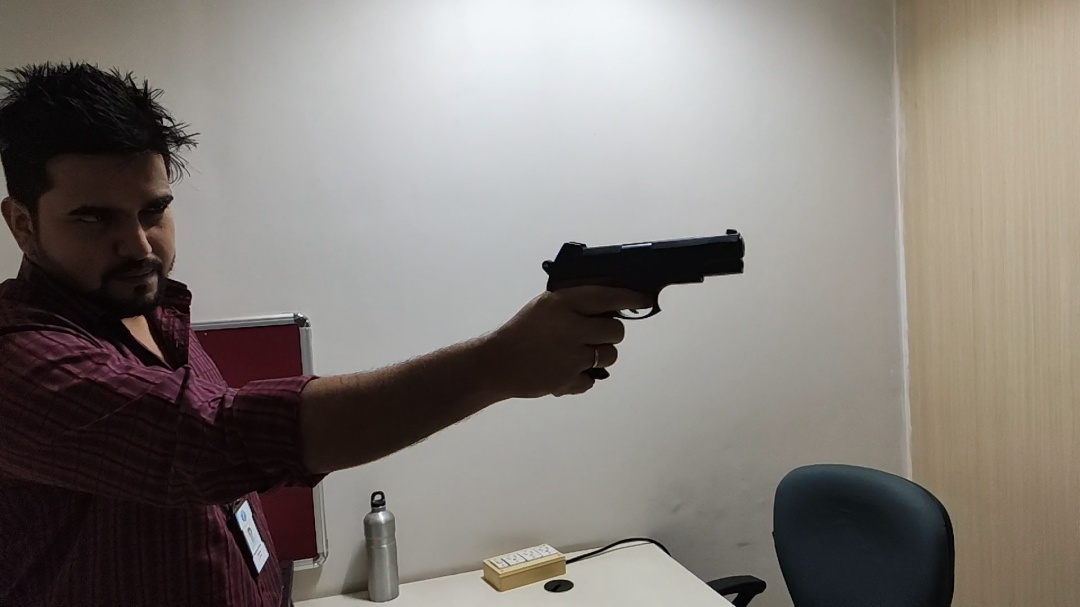gun: (539, 227, 747, 380)
